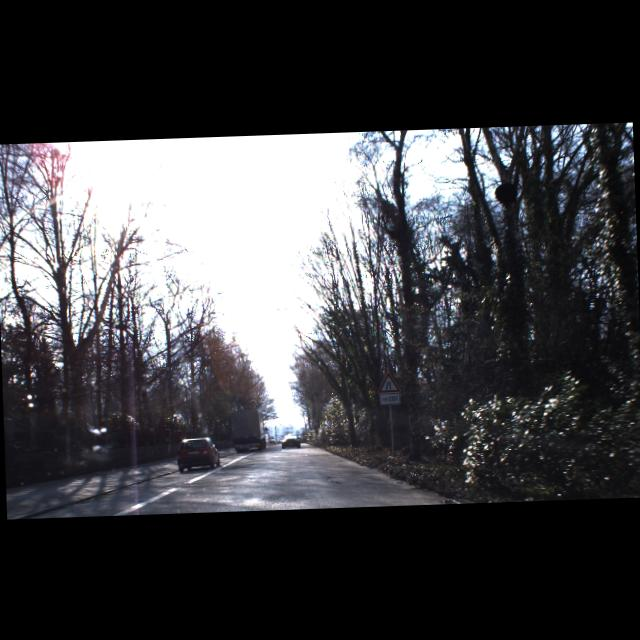danger: (376, 369, 402, 394)
